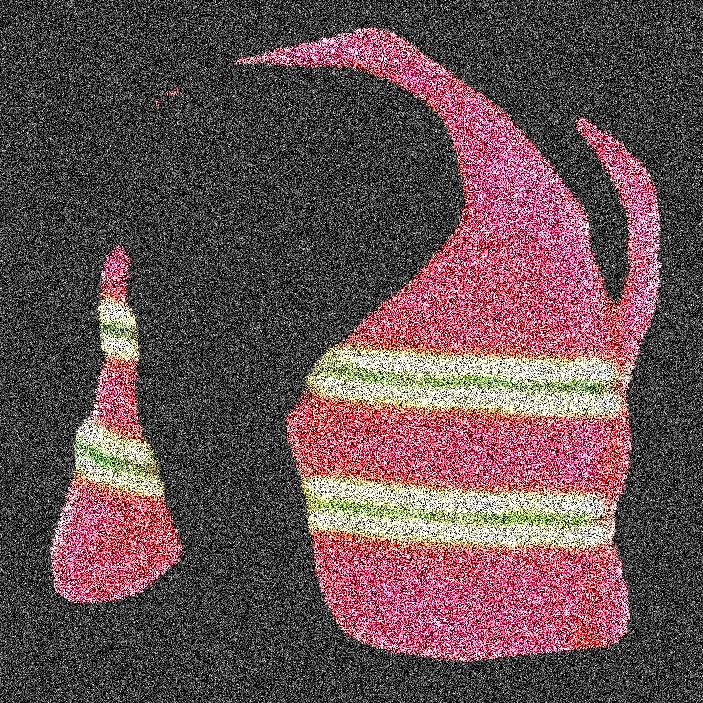Colete: (402, 0, 609, 702)
